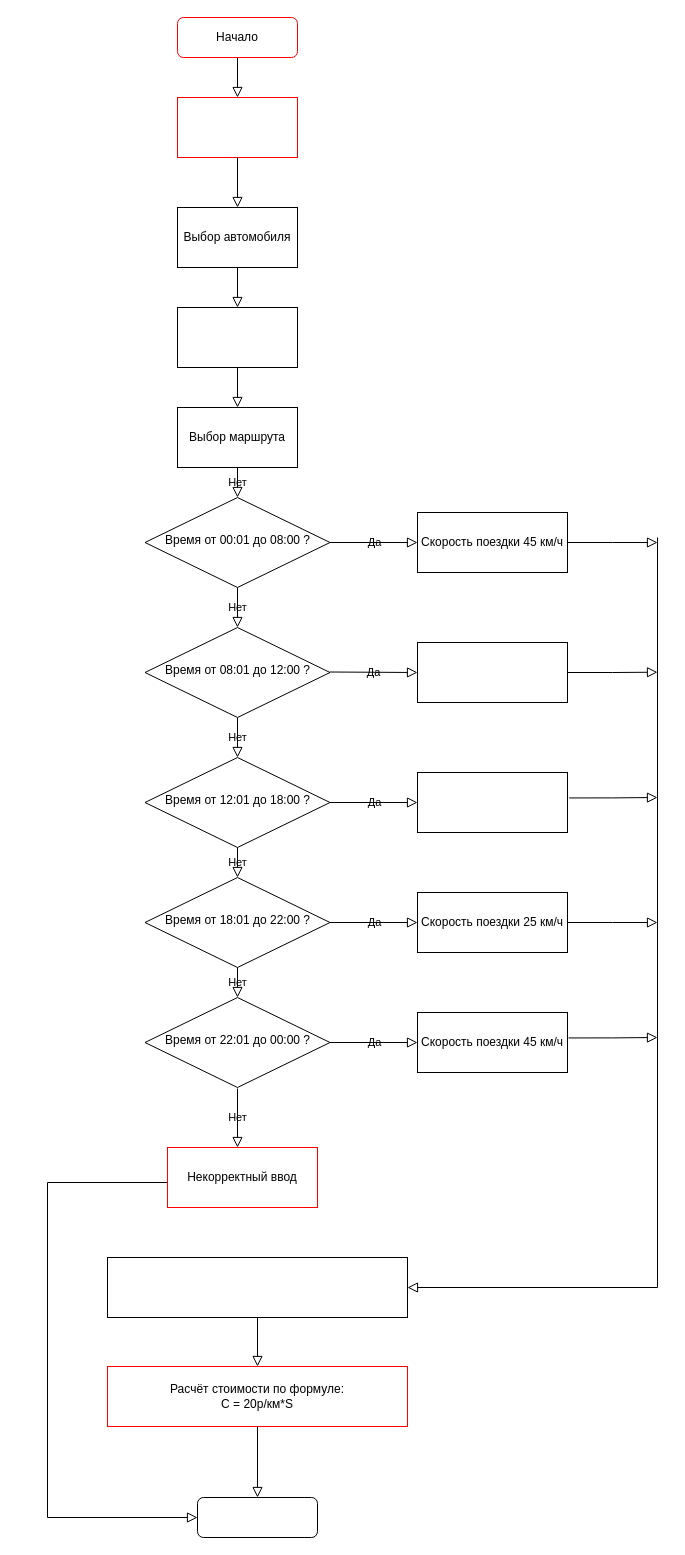
Image size: 685x1555. Some labels were removed from this diagram. The shapes that lost their labels are listed below. From the top down, each one's box as (x1, y1, x2, y2) in pixels, then its label:
(176, 96, 298, 158): Выбор режима "Свой"
(176, 306, 298, 368): Выбор времени
(416, 642, 568, 702): Скорость поездки 30 км/ч
(416, 772, 568, 832): Скорость поездки 40 км/ч
(106, 1256, 408, 1318): Расчёт времени по формуле: t = S/V
(196, 1496, 318, 1538): Конец
